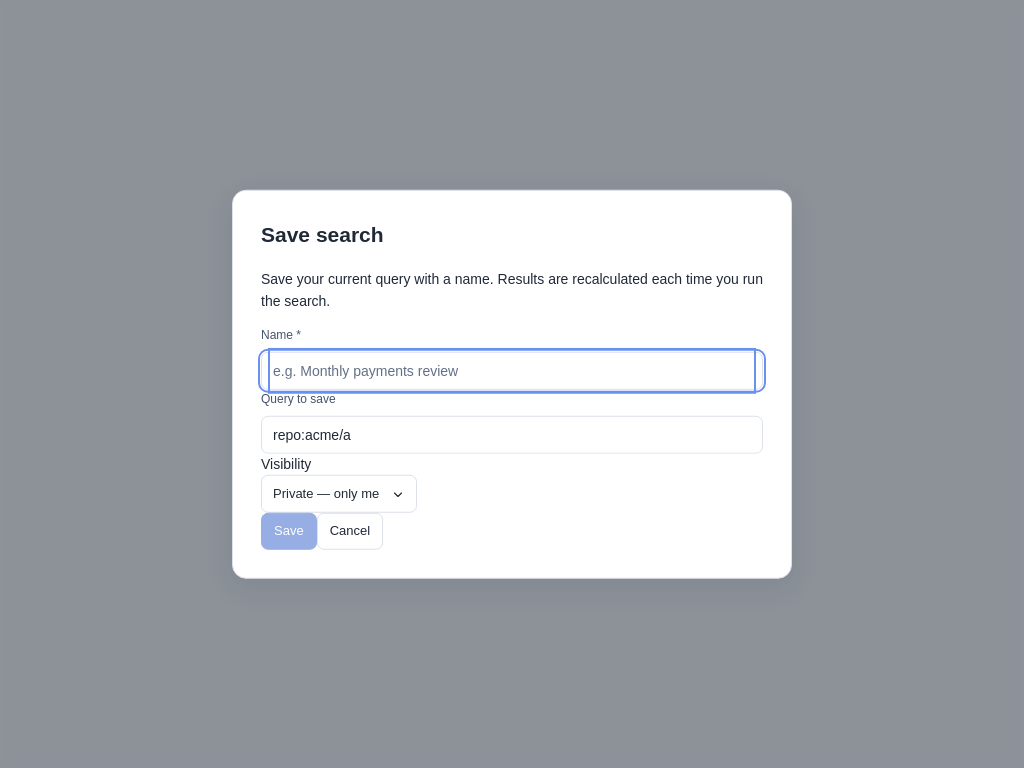
Test: W-001 저장 대화상자 (QA-W008-01) › 저장 실패를 사유와 함께 보인다
The width and height of the screenshot is (1024, 768).
Type "이름" into the field with test id "save-search-name".
click(512, 371); type("이름")  # box top-left (273, 353), bottom-right (751, 389)
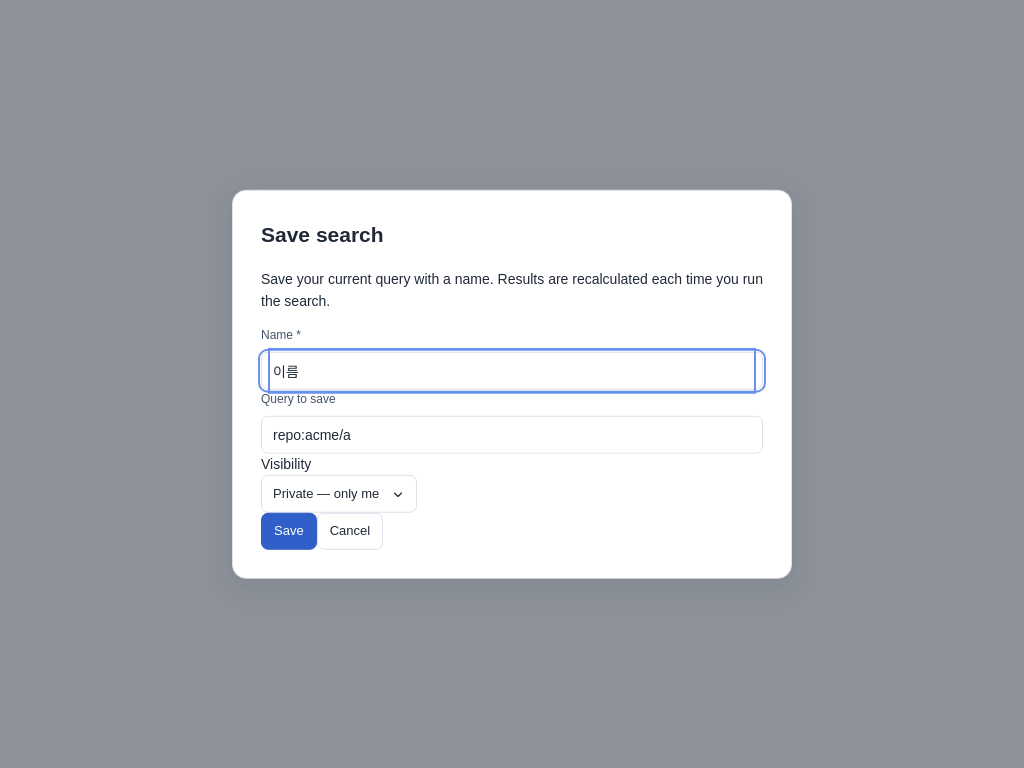
Click the button with test id "save-search-submit".
click(289, 531)  # box top-left (261, 513), bottom-right (317, 549)
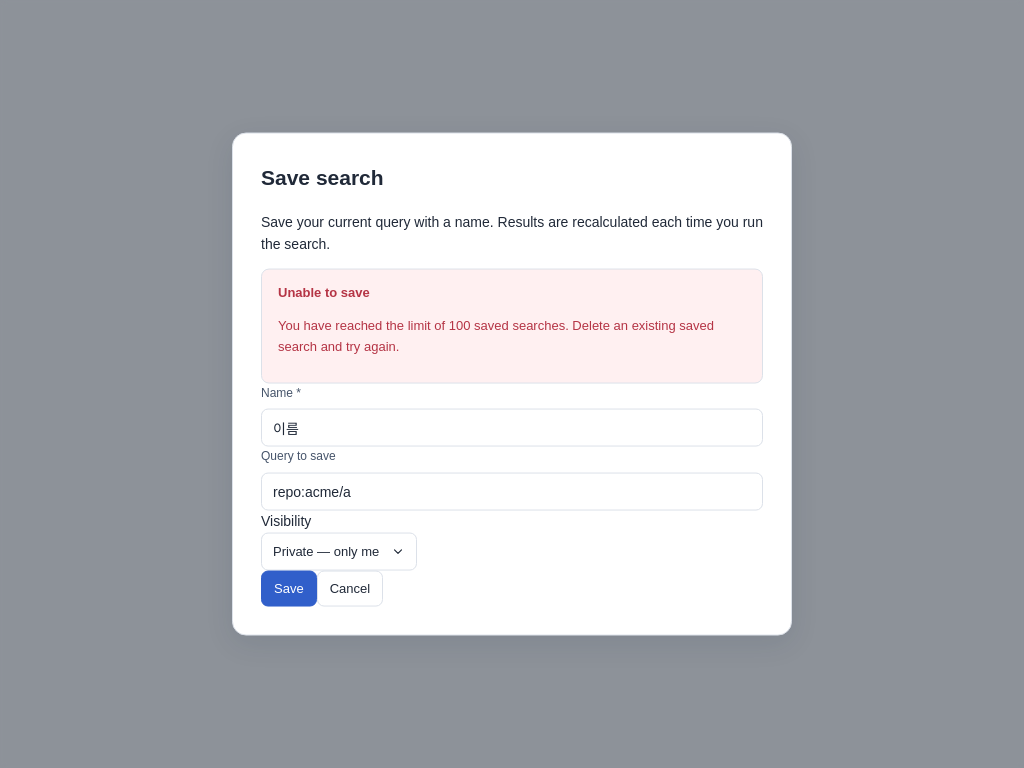
Expected: the text with test id "save-search-error" shows "100 saved searches", top-left (278, 318), bottom-right (714, 353)
